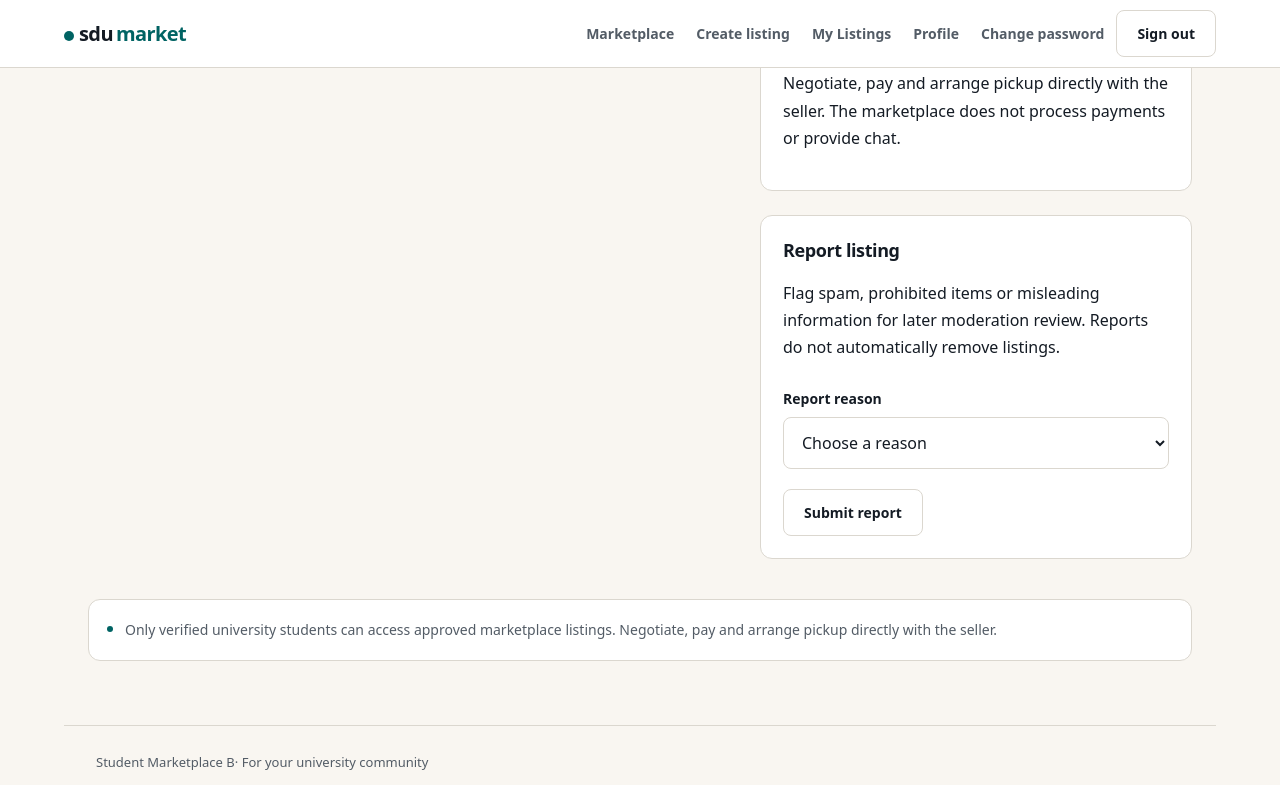
Test: current-session failure removes protected report content
(page scrolled)
Check: the form named "Report listing" is shown, box [783, 378, 1169, 536]
Select "Spam" in the dropdown labelled "Report reason" at {"x": 976, "y": 444}, box [783, 418, 1169, 470]
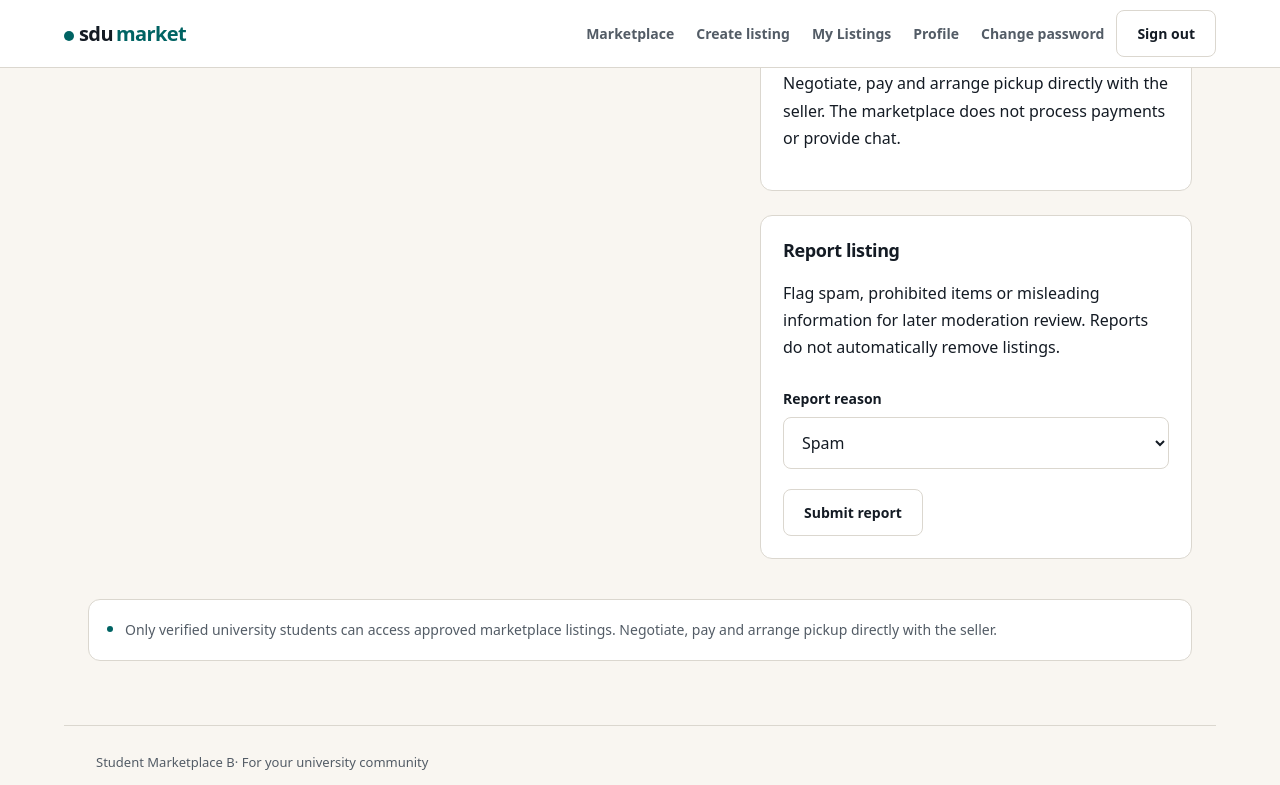
Submit the form named "Report listing", box [783, 378, 1169, 536]
(page scrolled)
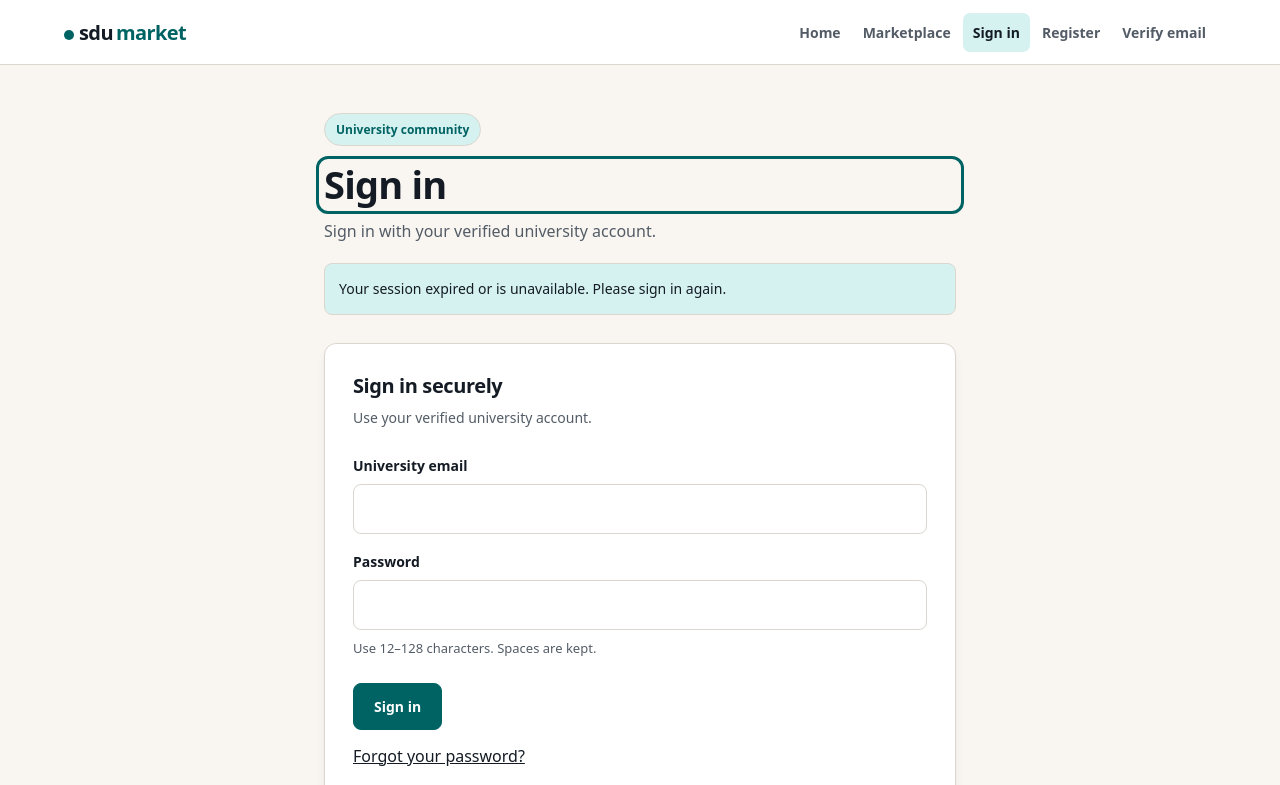
Check: the heading "Sign in" is shown, box [324, 158, 446, 210]
Check: the heading "Report listing" is gone
